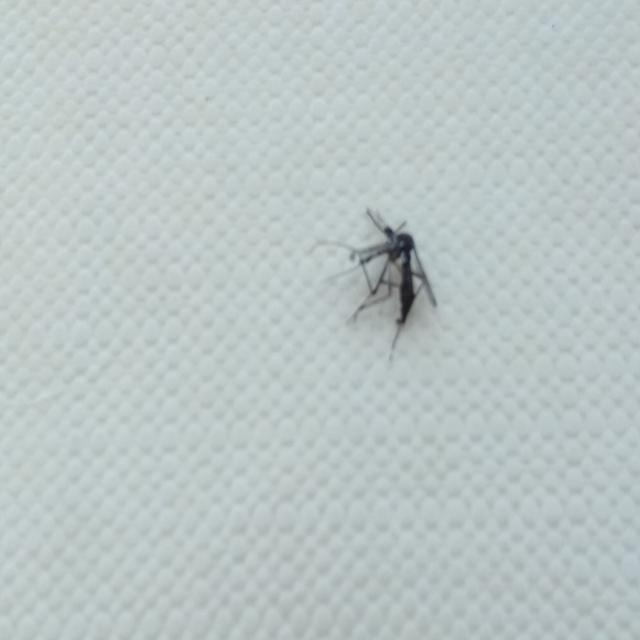albopictus: (327, 194, 440, 355)
